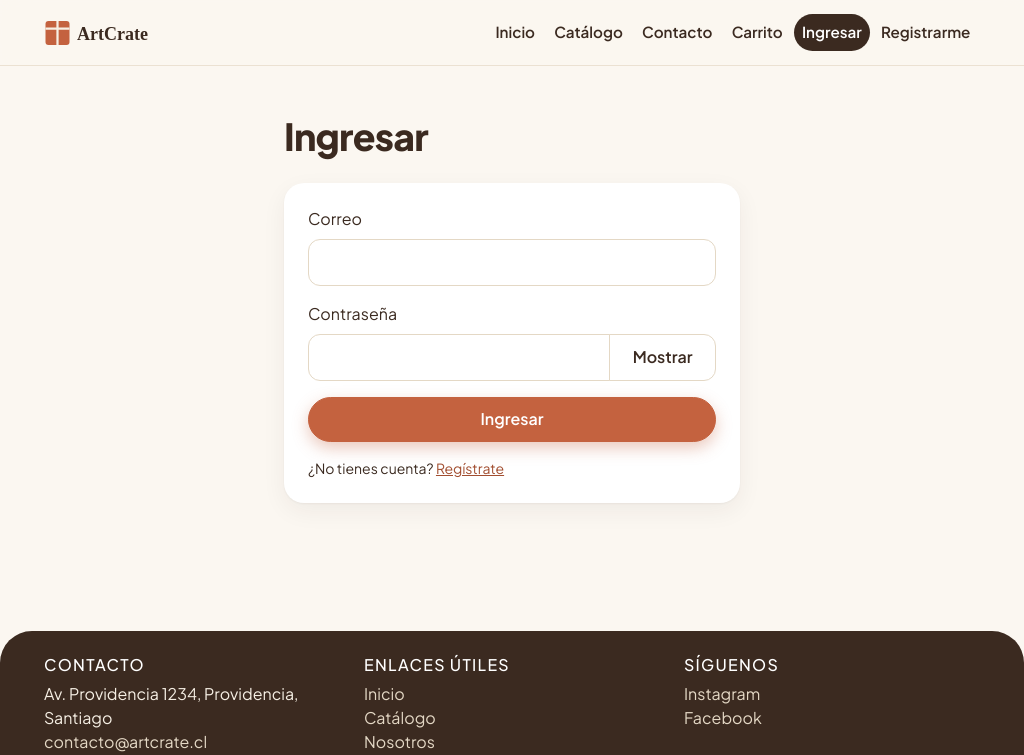
Test: Login › si las credenciales son incorrectas muestra el mensaje del servidor y no inicia sesión
Type "camila@artcrate.cl" into the field labelled "Correo" at point(512, 262), box [308,239,716,286]
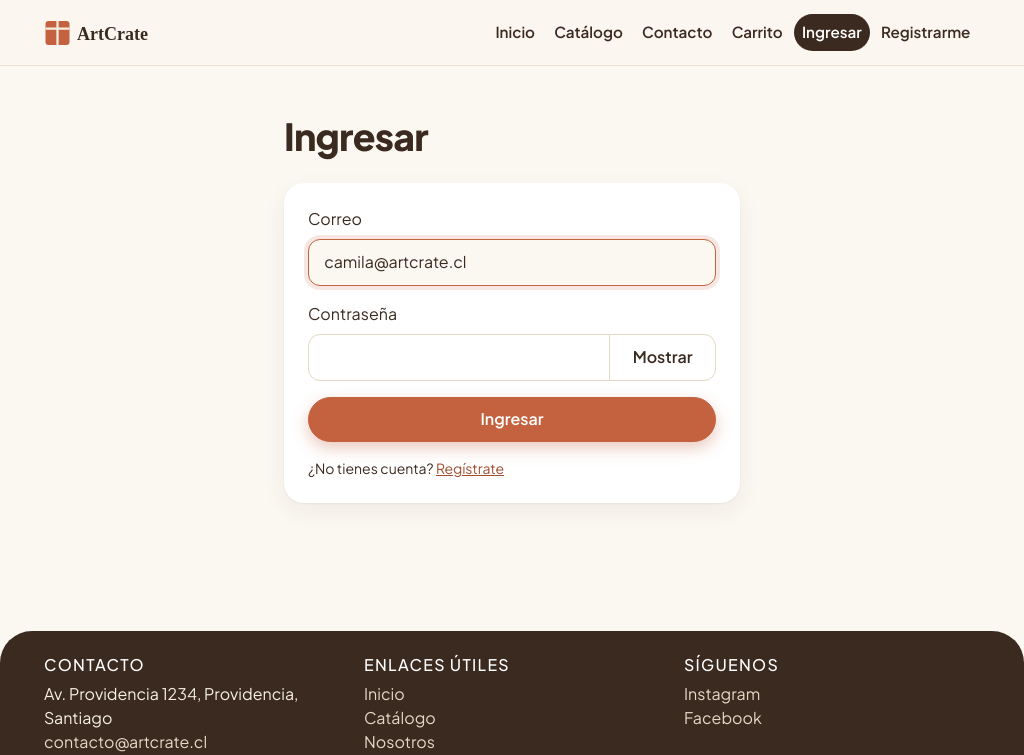
Type "mala" into the password field labelled "Contraseña" at point(459, 357), box [308,334,610,381]
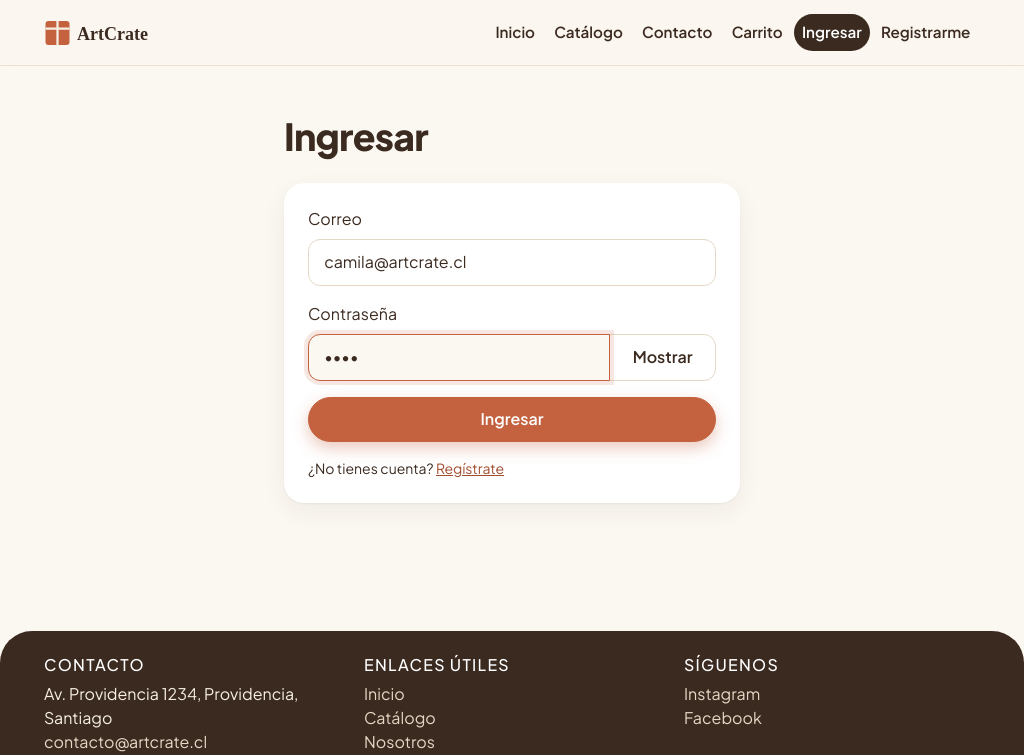
Click the button "Ingresar" at point(512, 419), box [308,397,716,442]
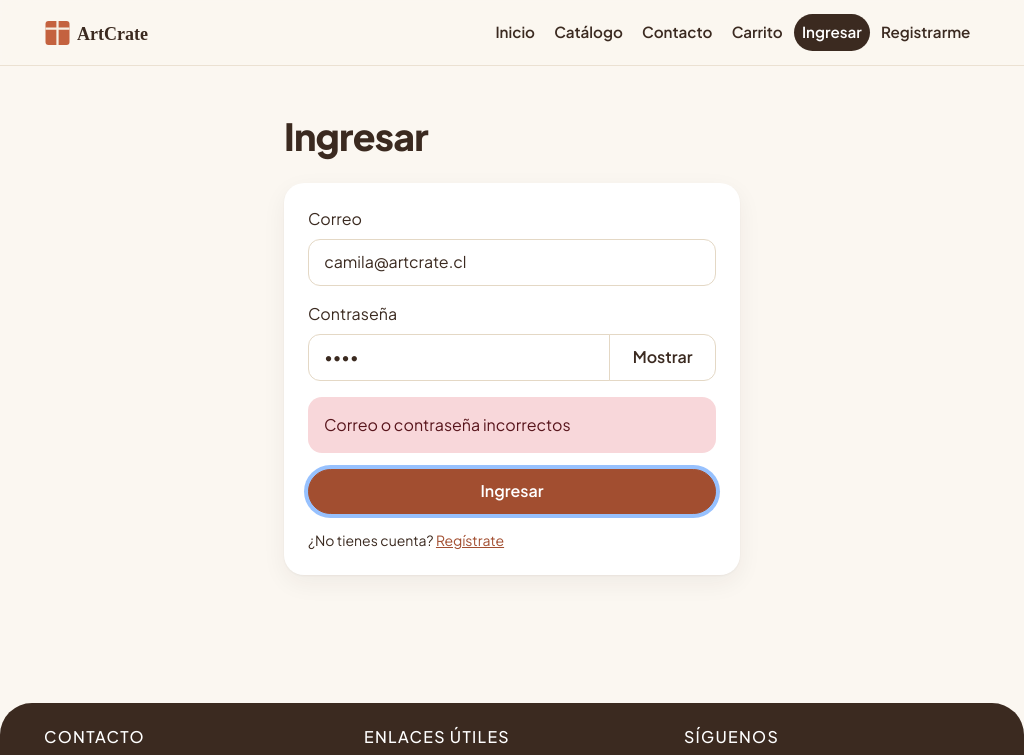
Expected: the link "Ingresar" is shown, [794,14,870,51]
Expected: the message reads "Correo o contraseña incorrectos", [324,414,571,435]
